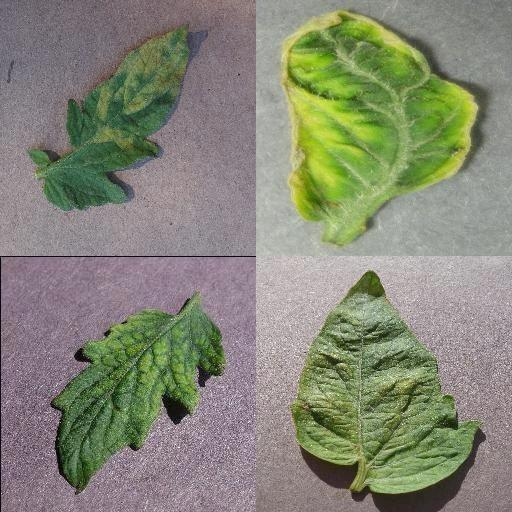Leaf Mold: (42, 20, 192, 214)
Mosaic Virus: (50, 308, 224, 494)
Spider Mites: (290, 271, 482, 495)
Yellow Leaf Curl Virus: (283, 12, 479, 222)
